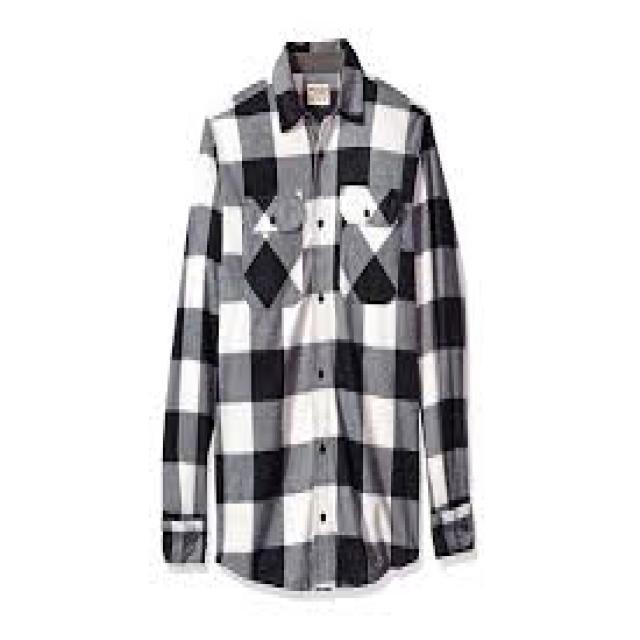plaid: (154, 32, 482, 596)
